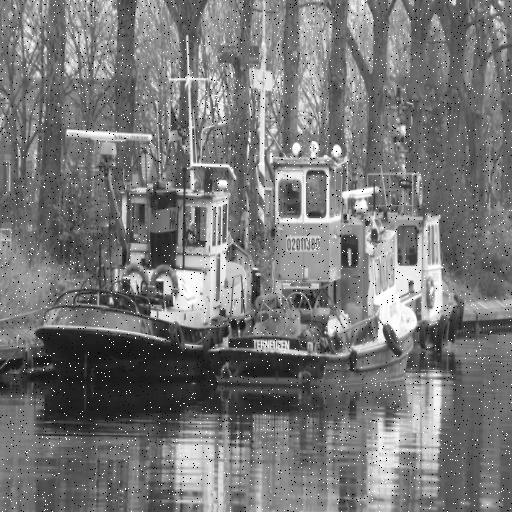tugboat: (36, 128, 254, 417), (207, 141, 423, 415)
